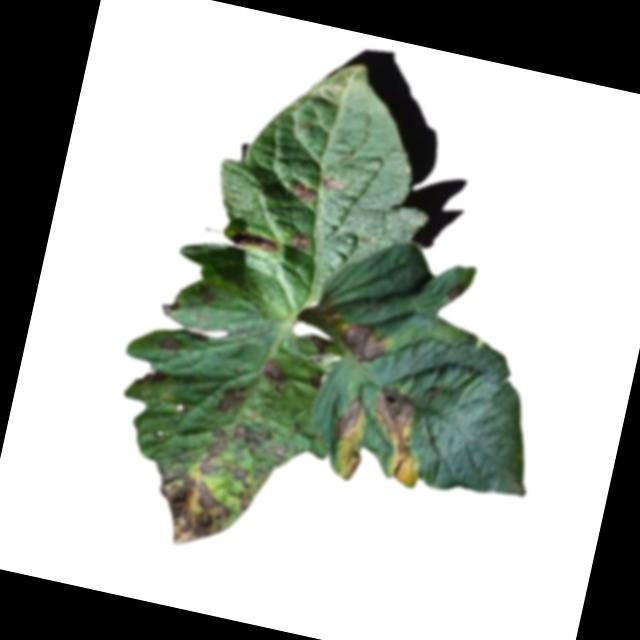Early_blight: (358, 380, 435, 484), (145, 467, 236, 554), (331, 317, 390, 364), (330, 390, 369, 441), (196, 424, 229, 478), (227, 420, 272, 458), (222, 464, 258, 510), (210, 376, 250, 417), (229, 225, 281, 255), (254, 357, 292, 391), (334, 443, 364, 482), (147, 332, 185, 357), (287, 177, 320, 203), (265, 436, 290, 466), (290, 227, 317, 253), (320, 172, 344, 192)
